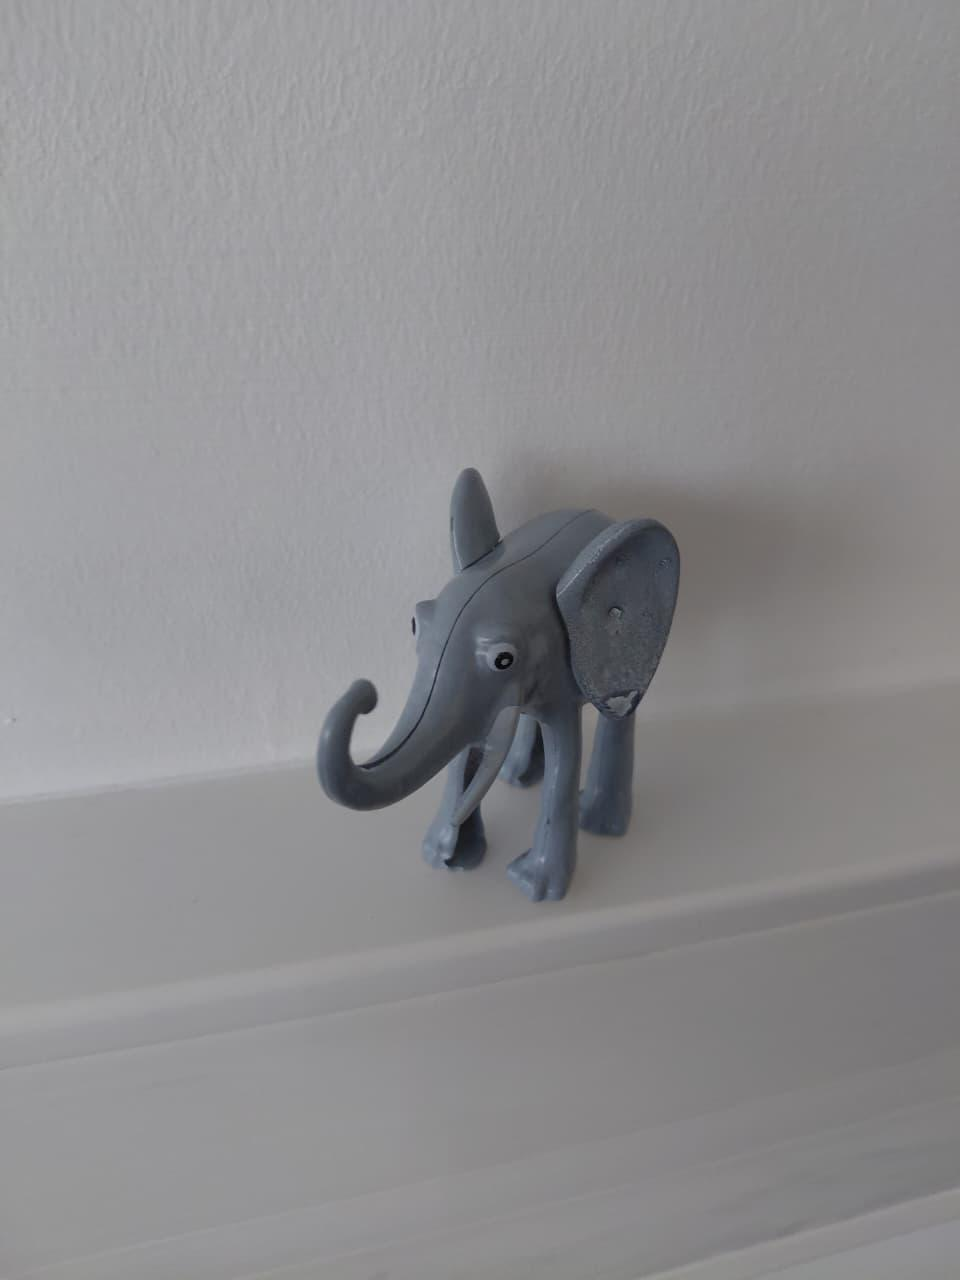elephant: (282, 415, 790, 965)
